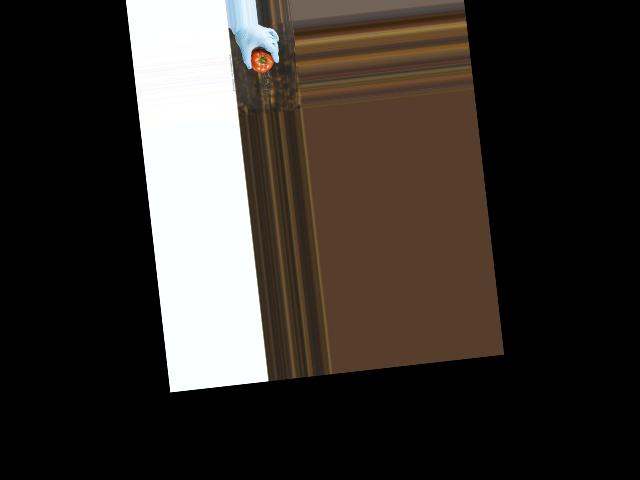tomato: (249, 46, 274, 74)
